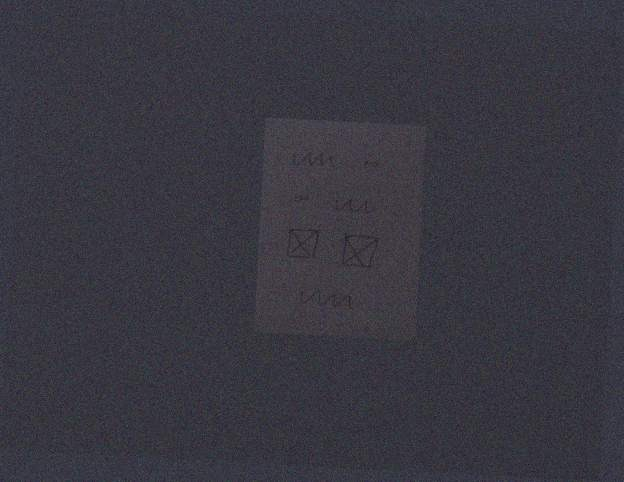image: (338, 231, 383, 272), (284, 225, 321, 262)
switch: (358, 156, 385, 173), (292, 190, 314, 207)
text: (296, 284, 354, 314), (290, 148, 341, 170), (333, 194, 378, 217)
